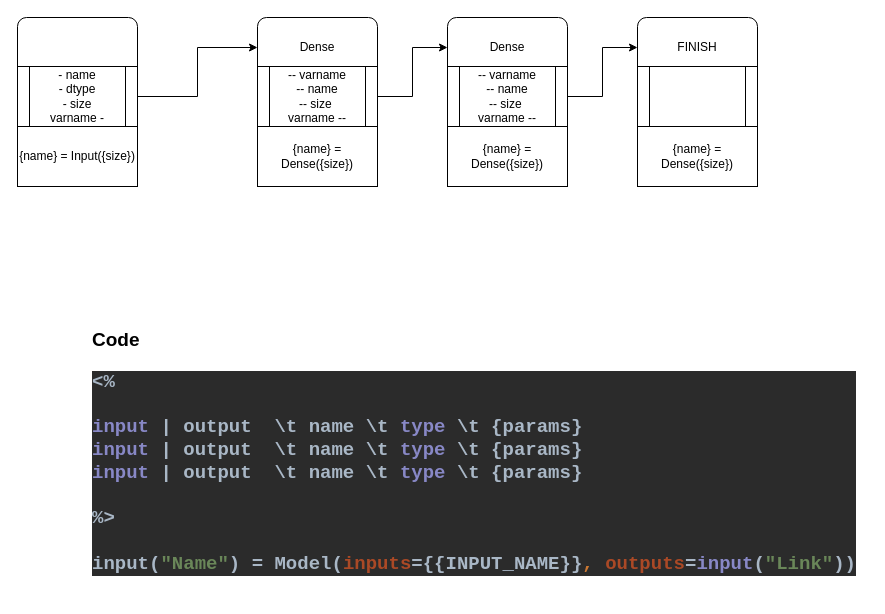
This 885x614 diagram has some shape labels left out. The centre of each missing label's shape, as x and y in pixels:
"-- model name -- outp num -- [] outputs" goes at point 697,96.
"INPUT" goes at point 77,47.
